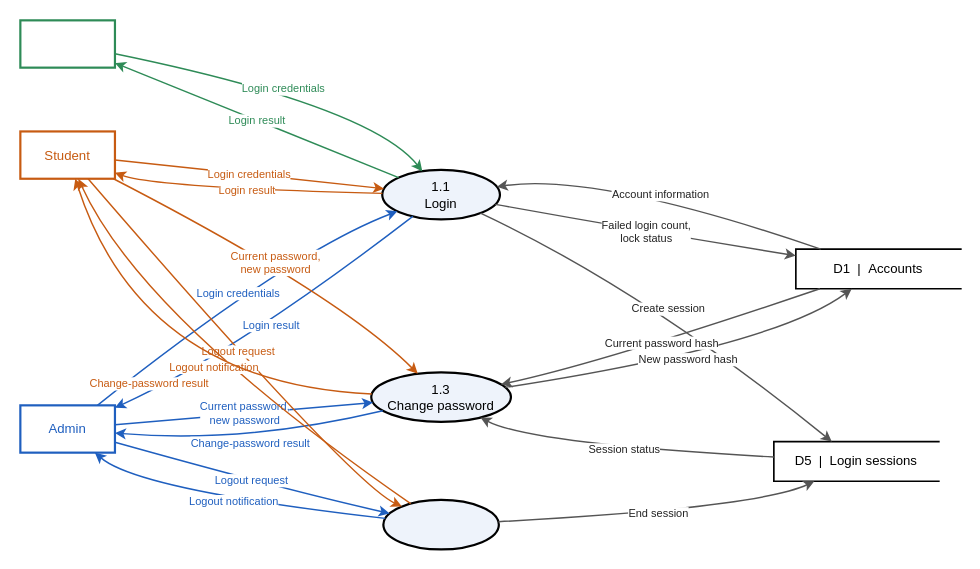
Image size: 980x569. Some labels were removed from this diagram. Here are the shapes that lost their labels. From the top down, the centre of each, then its label:
At [67,43]: "Lecturer".
At [440,524]: "1.2 Logout".
